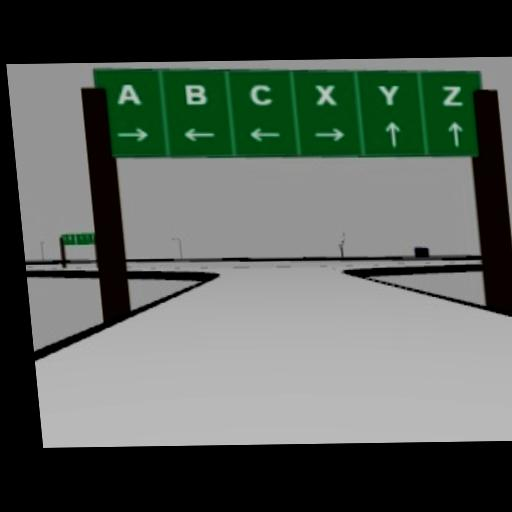A: (113, 81, 141, 105)
B: (183, 82, 207, 104)
C: (247, 83, 273, 105)
Left: (246, 126, 283, 143), (182, 127, 216, 141)
Right: (116, 126, 150, 142), (314, 126, 346, 141)
Straight: (383, 120, 402, 147), (446, 119, 465, 146)
X: (314, 84, 338, 105)
Y: (376, 84, 400, 105)
Z: (440, 85, 464, 106)
